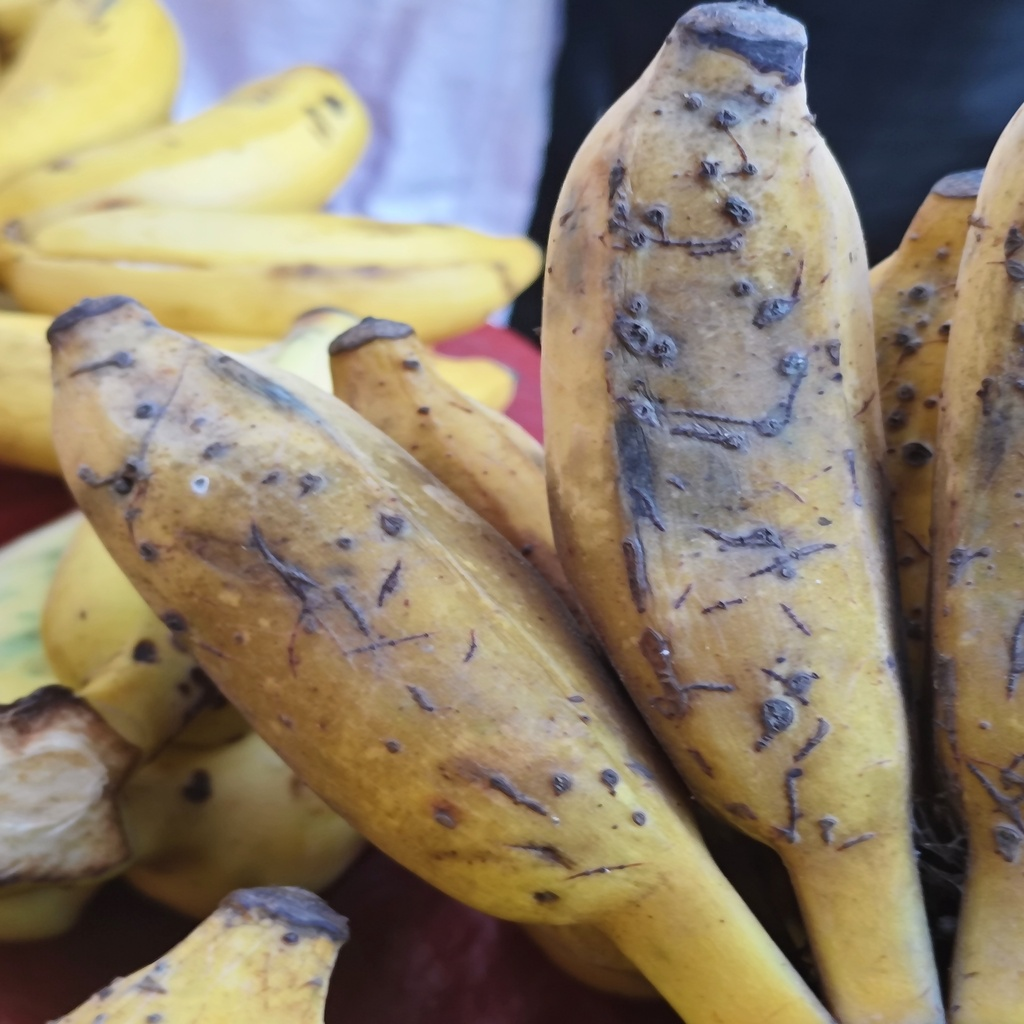unhealthy: (48, 298, 666, 923), (540, 18, 912, 836)
